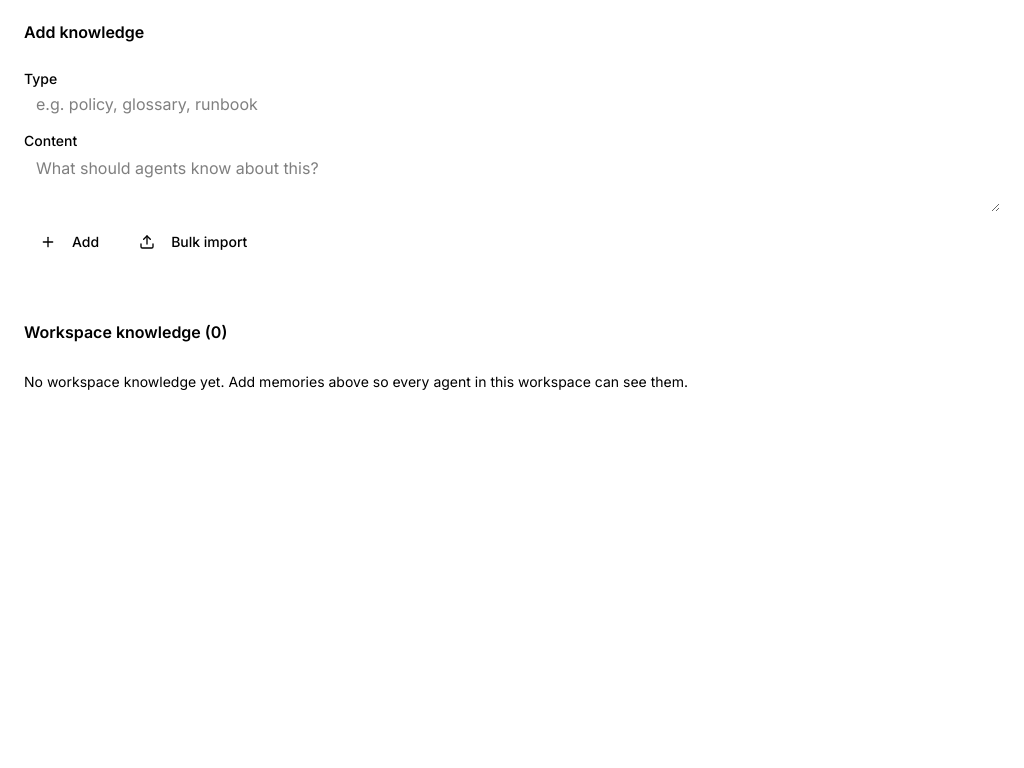
it: InstitutionalKnowledgePanel › bulk imports JSON entries sequentially
Click the button with test id "bulk-import-open".
click(193, 242)  # box [123,224,263,260]
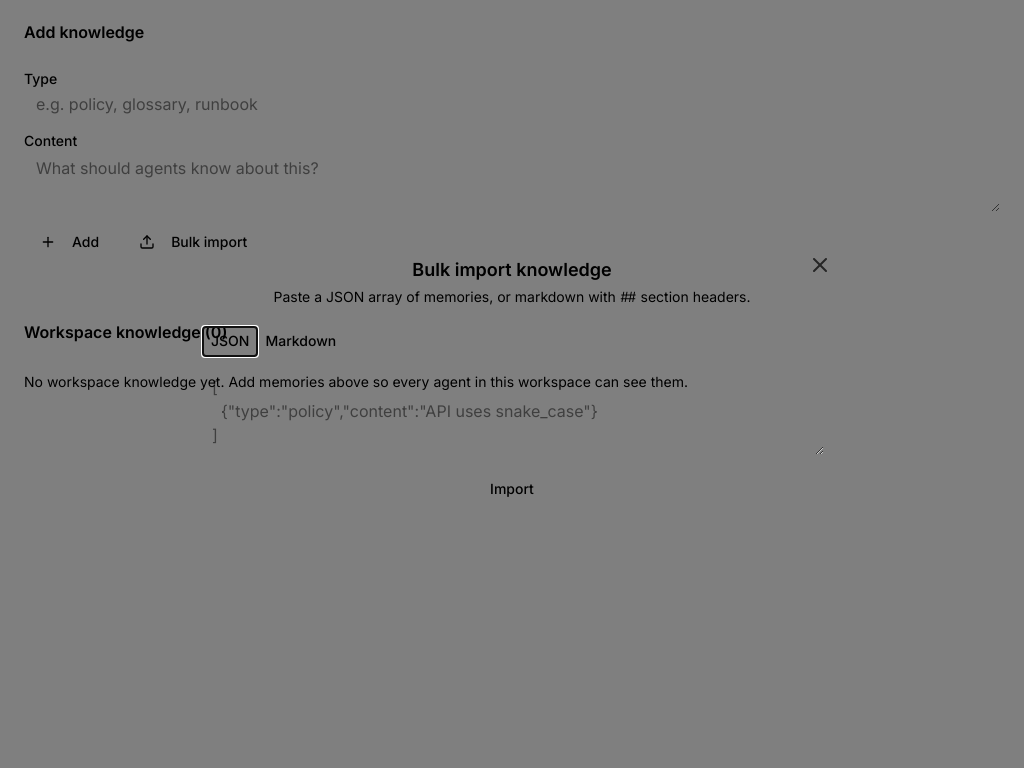
Click the text box with test id "bulk-import-json".
click(512, 411)  # box [200,367,824,455]
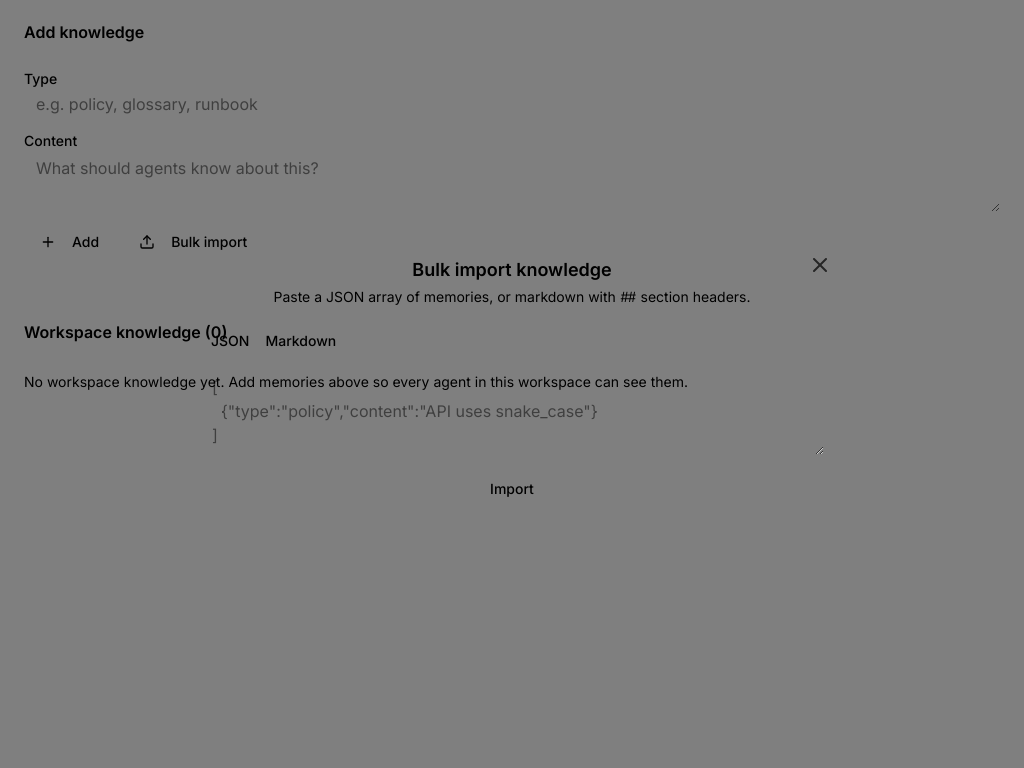
Type keys "[{\"type\":\"policy\",\"content\":\"A\"},{\"type\":\"glossary\",\"content\":\"B\"}]"
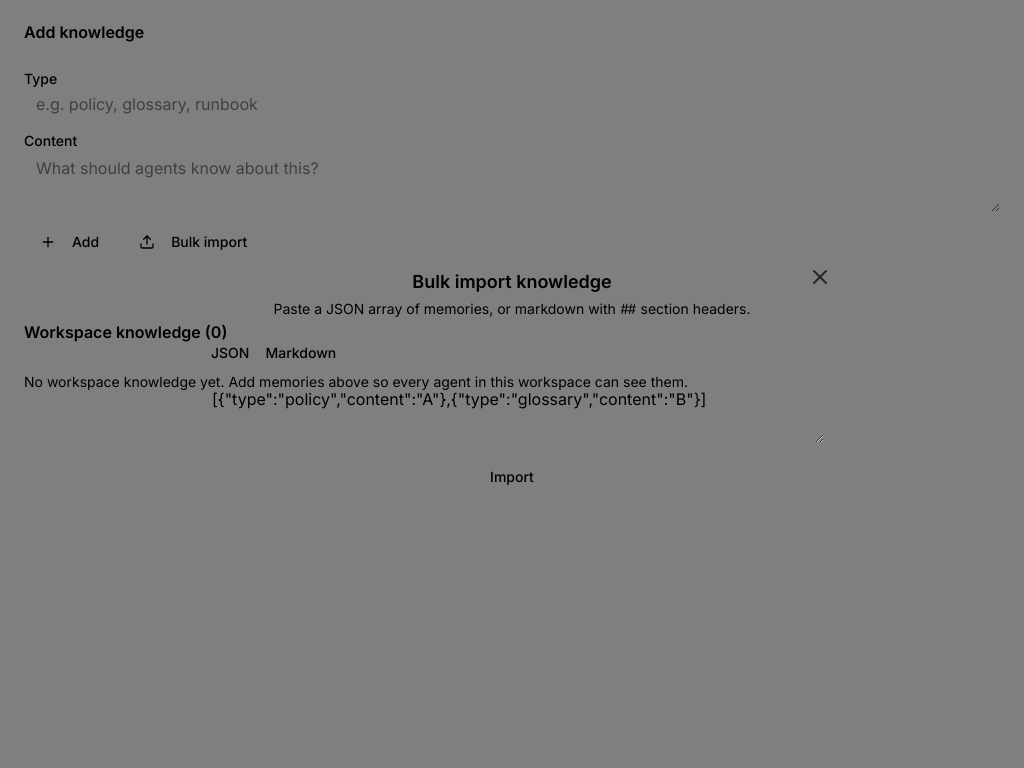
Click the button with test id "bulk-import-submit".
click(512, 477)  # box [200,459,824,495]
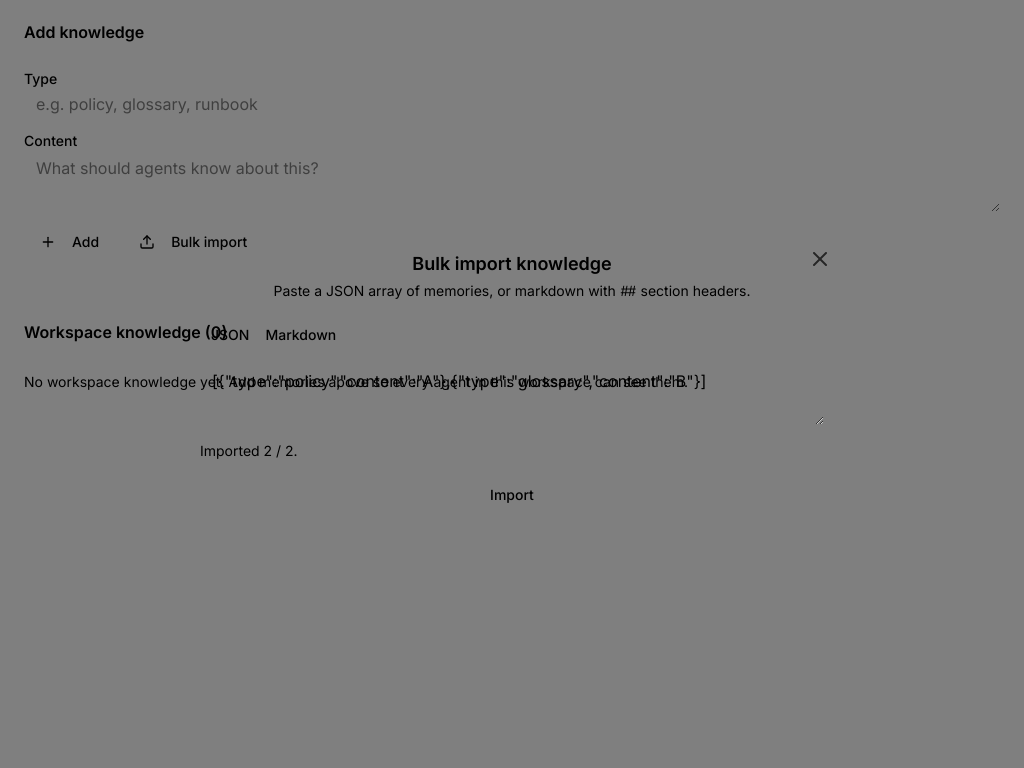
Expected: the text with test id "bulk-import-summary" shows "Imported 2 / 2", [200,442,298,459]
